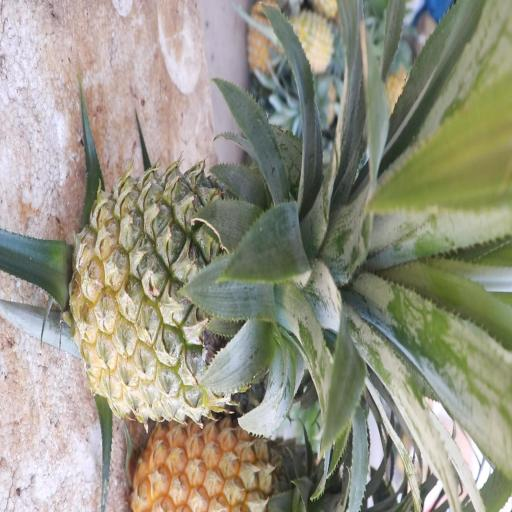------------------------------: (73, 169, 345, 417)
Pineapple - v8 v1: (140, 412, 337, 512)
